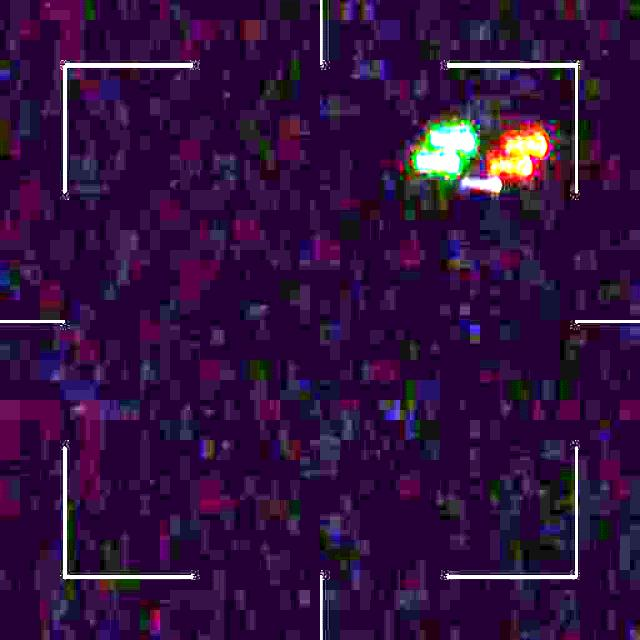bird: (412, 128, 549, 192)
